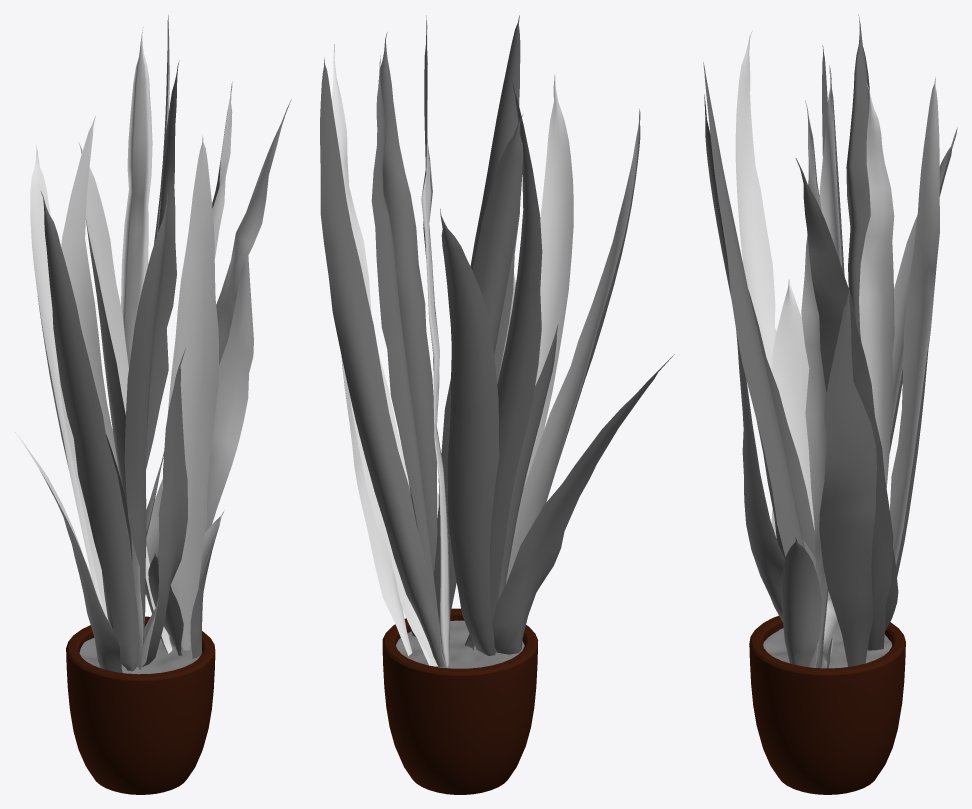
The model's file is Plant 1.FBX.
The picture shows the model from 3 angles, left to right: view 1: azimuth 30°, elevation 25°; view 2: azimuth 150°, elevation 25°; view 3: azimuth 270°, elevation 25°; orthographic projection. The views are drawn at different scales.
Visible parts, largest first — view 1: Plant 1; view 2: Plant 1; view 3: Plant 1.
Boxes of the visible parts, x1,y1,x2,y2 form: Plant 1: (15,14,291,794); Plant 1: (320,14,674,794); Plant 1: (703,14,957,794).
Bounding box in the file's own units: 531 × 371 × 1238.
